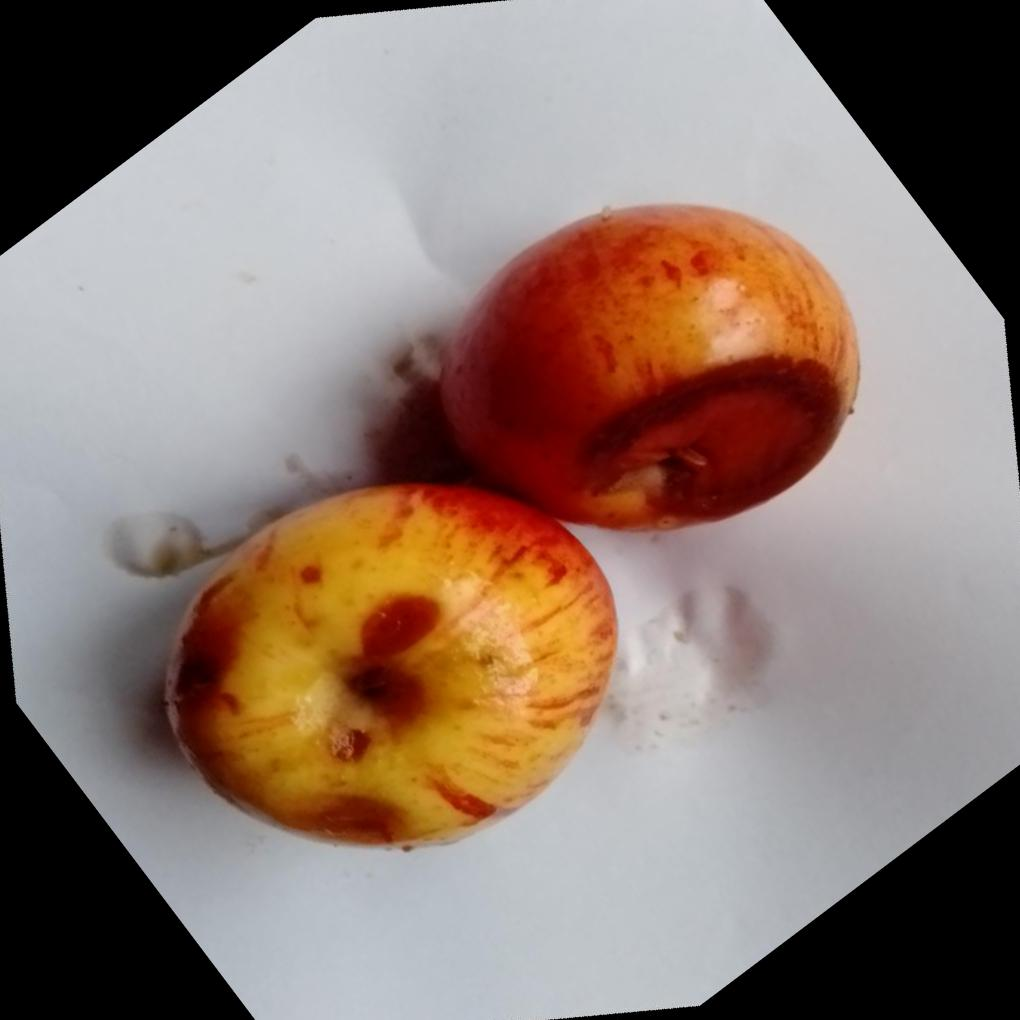FreshOrange: (162, 203, 859, 855)
